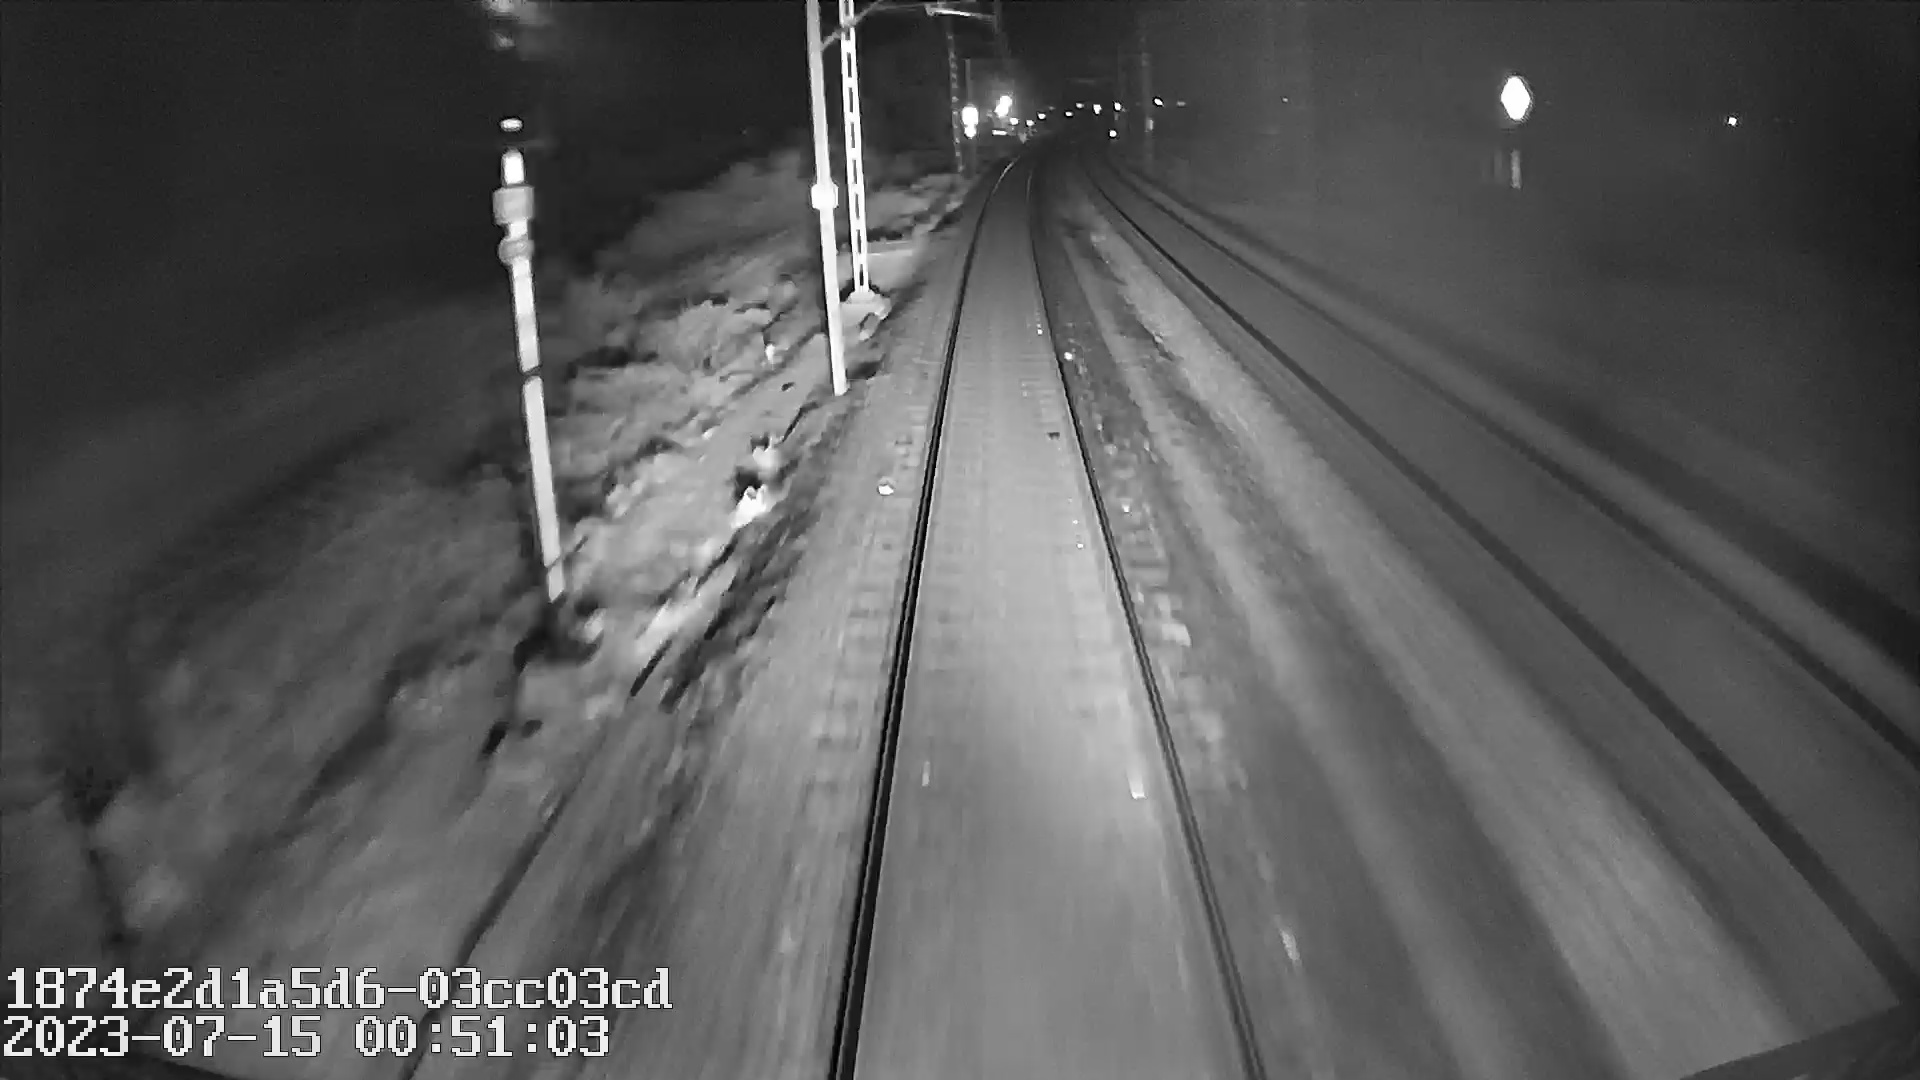track1: (843, 193, 1252, 1065)
track2: (1103, 190, 1907, 866)
